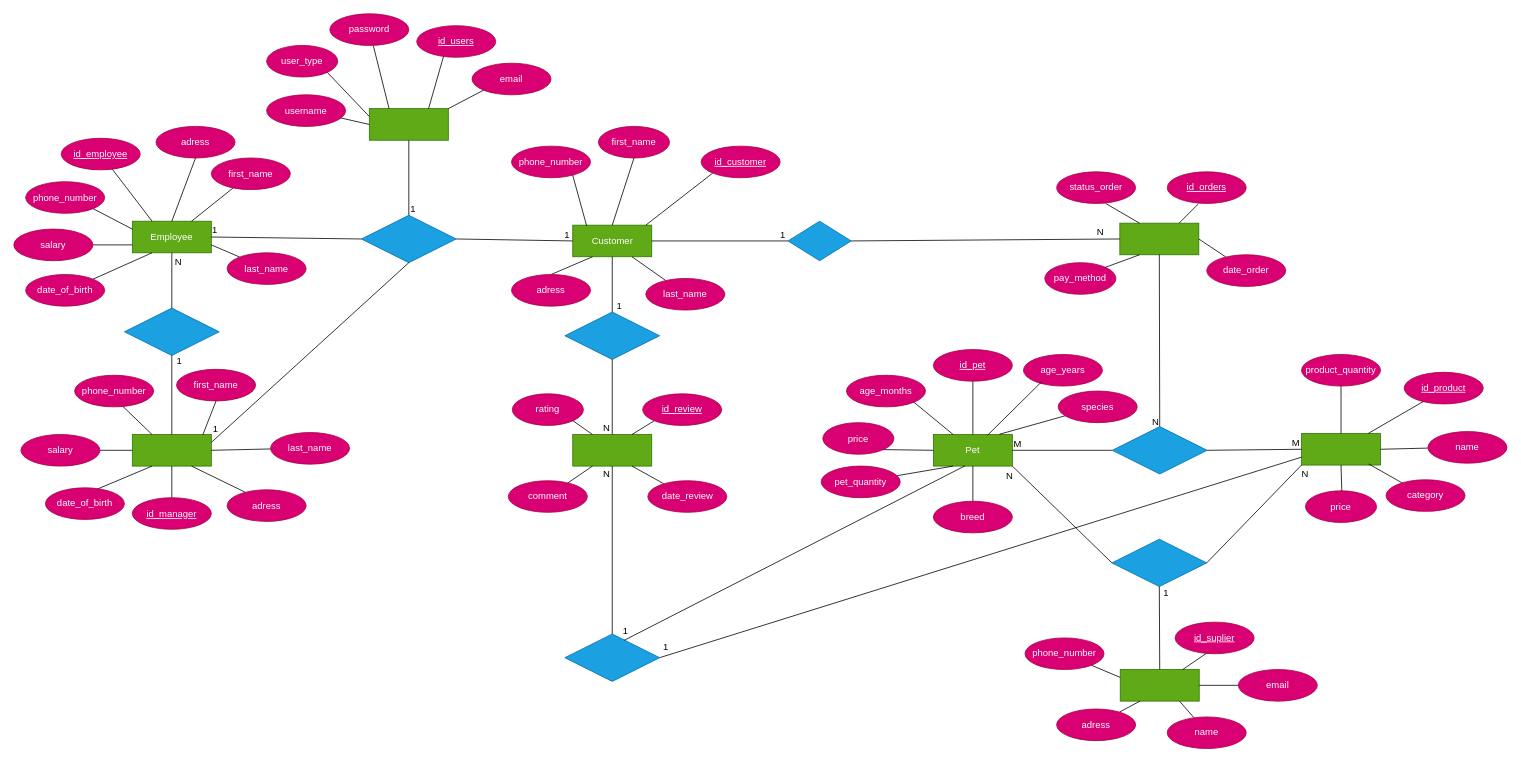
Some shapes in this 1521 by 762 pixel diagram are drawn without their labels. Each missing label, with the box of its shape:
delivers: (1111, 538, 1207, 587)
holds: (361, 214, 456, 263)
is associated: (564, 633, 660, 681)
is found: (1112, 426, 1207, 474)
leaves: (564, 311, 660, 359)
Manager: (132, 434, 211, 466)
Orders: (1119, 222, 1199, 255)
places: (787, 220, 851, 261)
Product: (1301, 433, 1381, 465)
Review: (572, 434, 652, 466)
supervises: (124, 307, 219, 356)
Supplier: (1119, 669, 1199, 701)
Users: (369, 108, 448, 140)
